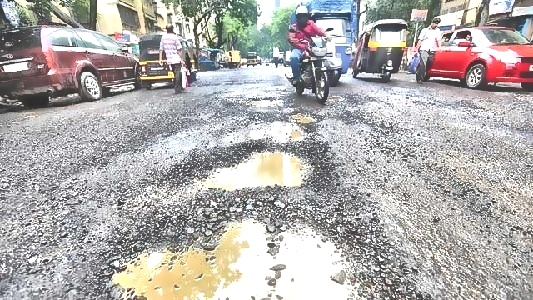pothole: (88, 200, 406, 297), (182, 141, 332, 188), (270, 121, 308, 140), (287, 107, 320, 125), (244, 95, 286, 109)
